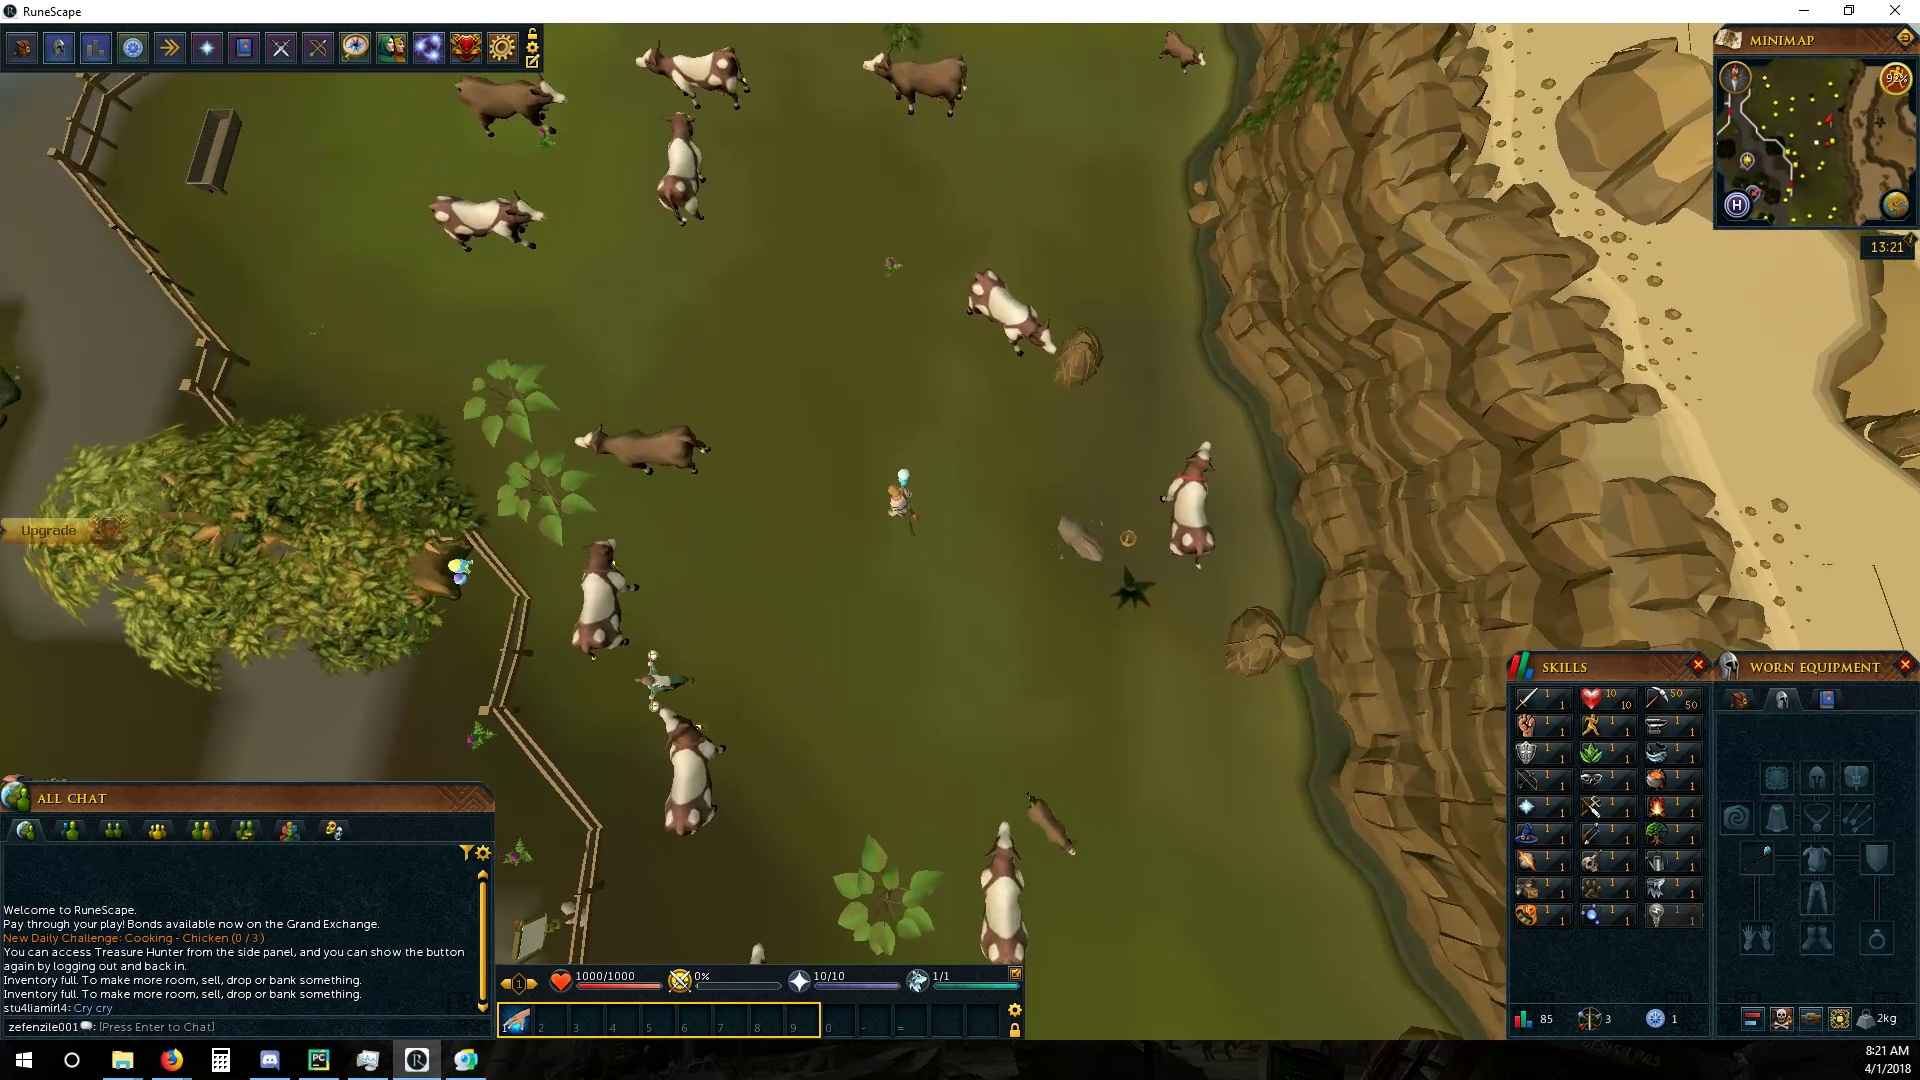calf: (1026, 793, 1081, 862), (1154, 32, 1207, 78)
cow: (655, 700, 727, 840), (566, 538, 644, 661), (628, 40, 756, 113), (960, 266, 1059, 361), (860, 44, 971, 121), (1156, 436, 1218, 574), (976, 816, 1033, 965), (574, 423, 712, 481), (427, 190, 550, 255), (450, 75, 574, 138), (659, 108, 712, 227)
